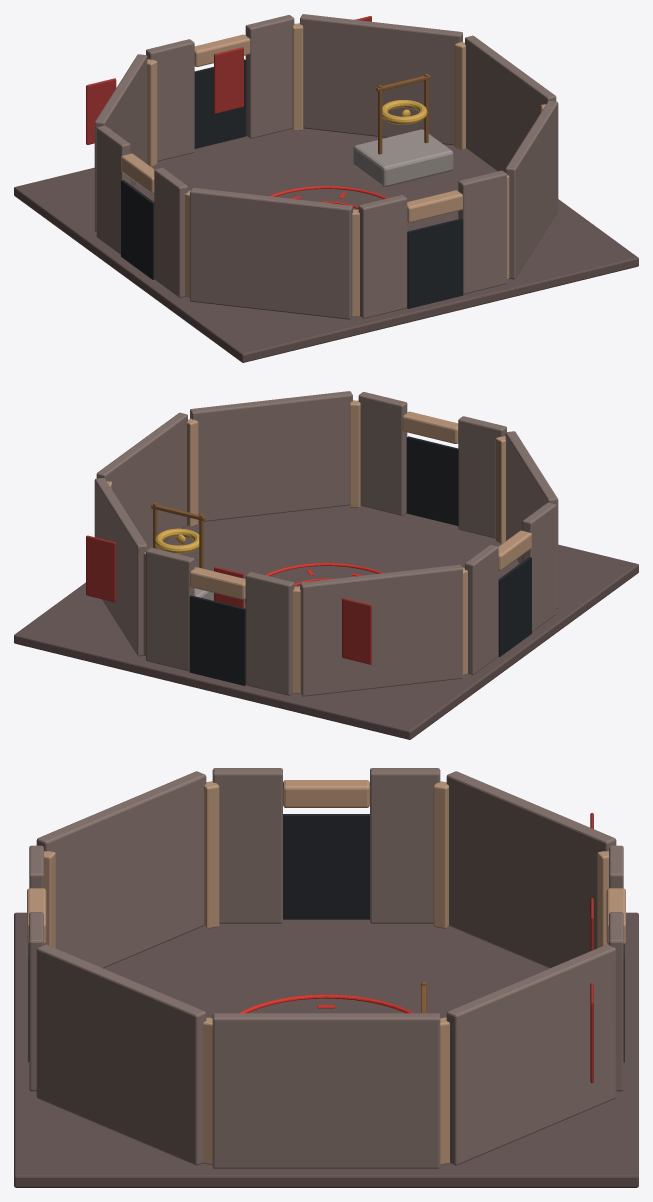
The model's file is pendelhaven_arena_4168.glb.
3 views of the same model, one above another, from view 1: azimuth 30°, elevation 25°; view 2: azimuth 150°, elevation 25°; view 3: azimuth 270°, elevation 25° (orthographic). The views are drawn at different scales.
Visible parts, largest first — view 1: Room floor, SW solid wall, NE solid wall, E solid wall, SE solid wall, S doorway right, N doorway right, S doorway left, N doorway left, S passage shadow, Arena master dais, W doorway left (+15 smaller); view 2: Room floor, SE solid wall, NW solid wall, E solid wall, N doorway left, S doorway left, N doorway right, NE solid wall, S doorway right, N passage shadow, S passage shadow, W doorway right (+14 smaller); view 3: Room floor, E solid wall, SE solid wall, NE solid wall, SW solid wall, NW solid wall, W doorway left, W doorway right, W passage shadow, W doorway lintel, Corner column.005, Corner column.006 (+11 smaller).
Part boxes in pixels (<box>): Room floor: <box>14,128,638,362</box>; SW solid wall: <box>190,187,352,319</box>; NE solid wall: <box>300,14,462,145</box>; E solid wall: <box>465,35,556,172</box>; SE solid wall: <box>505,101,558,279</box>; S doorway right: <box>358,195,407,318</box>; N doorway right: <box>245,15,294,138</box>; S doorway left: <box>458,170,506,294</box>; N doorway left: <box>146,39,194,161</box>; S passage shadow: <box>407,218,463,308</box>; Arena master dais: <box>353,129,453,187</box>; W doorway left: <box>154,167,187,297</box>; Room floor: <box>14,505,638,739</box>; SE solid wall: <box>190,391,352,522</box>; NW solid wall: <box>300,564,462,696</box>; E solid wall: <box>96,412,187,549</box>; N doorway left: <box>245,572,294,695</box>; S doorway left: <box>358,392,407,515</box>; N doorway right: <box>146,547,194,671</box>; NE solid wall: <box>94,478,147,656</box>; S doorway right: <box>458,416,506,538</box>; N passage shadow: <box>189,595,245,685</box>; S passage shadow: <box>406,436,458,525</box>; W doorway right: <box>465,544,498,674</box>; Room floor: <box>14,912,638,1187</box>; E solid wall: <box>212,1013,440,1168</box>; SE solid wall: <box>36,944,206,1165</box>; NE solid wall: <box>446,944,616,1165</box>; SW solid wall: <box>36,771,206,968</box>; NW solid wall: <box>446,771,616,968</box>; W doorway left: <box>212,768,282,923</box>; W doorway right: <box>370,768,440,923</box>; W passage shadow: <box>283,814,369,919</box>; W doorway lintel: <box>283,780,369,807</box>; Corner column.005: <box>204,781,219,928</box>; Corner column.006: <box>433,781,448,928</box>.
Bounding box in the file's own units: 18 × 5.2 × 18.
